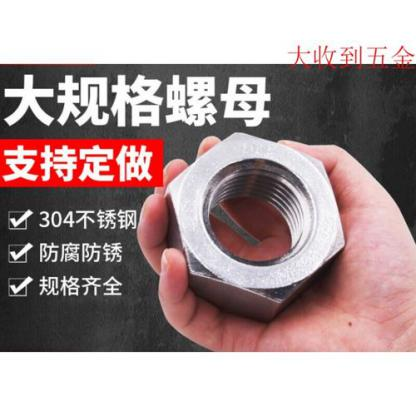FOD: (169, 131, 351, 321)
